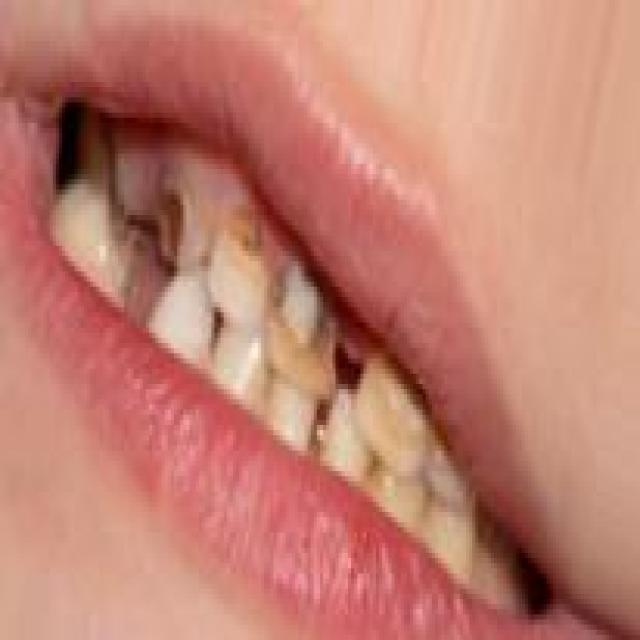caries: (263, 248, 341, 402), (148, 168, 206, 286), (217, 190, 274, 288)
